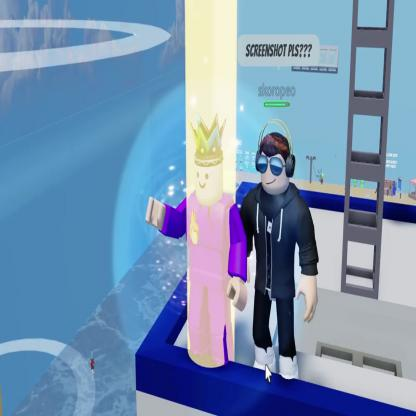Roblox-Avatar: (146, 113, 248, 367), (241, 119, 321, 380)
